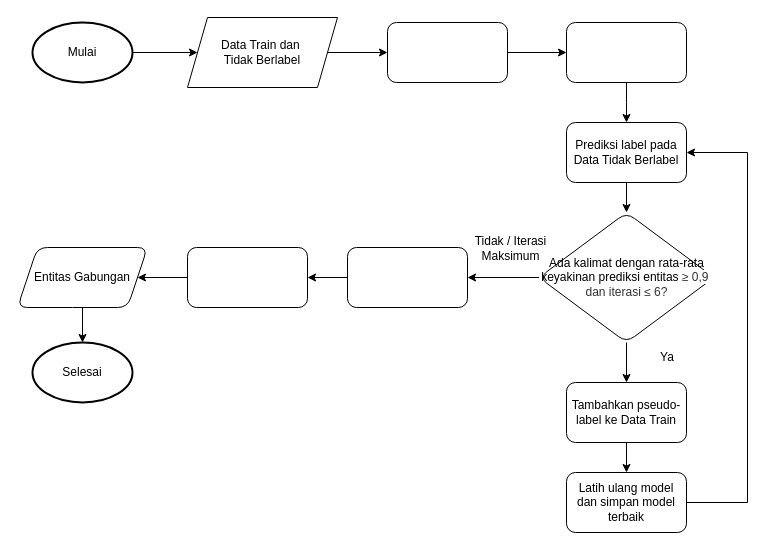
This 773x550 diagram has some shape labels left out. Here are the shapes that lost their labels. From the top down, the centre of each, then its label:
At point (447, 52): "Persiapan Data Input".
At point (626, 52): "Fine-tuning IndoBERT".
At point (247, 277): "Gabungkan entitas".
At point (407, 277): "Prediksi Entitas seluruh chunk dengan model terbaik".
